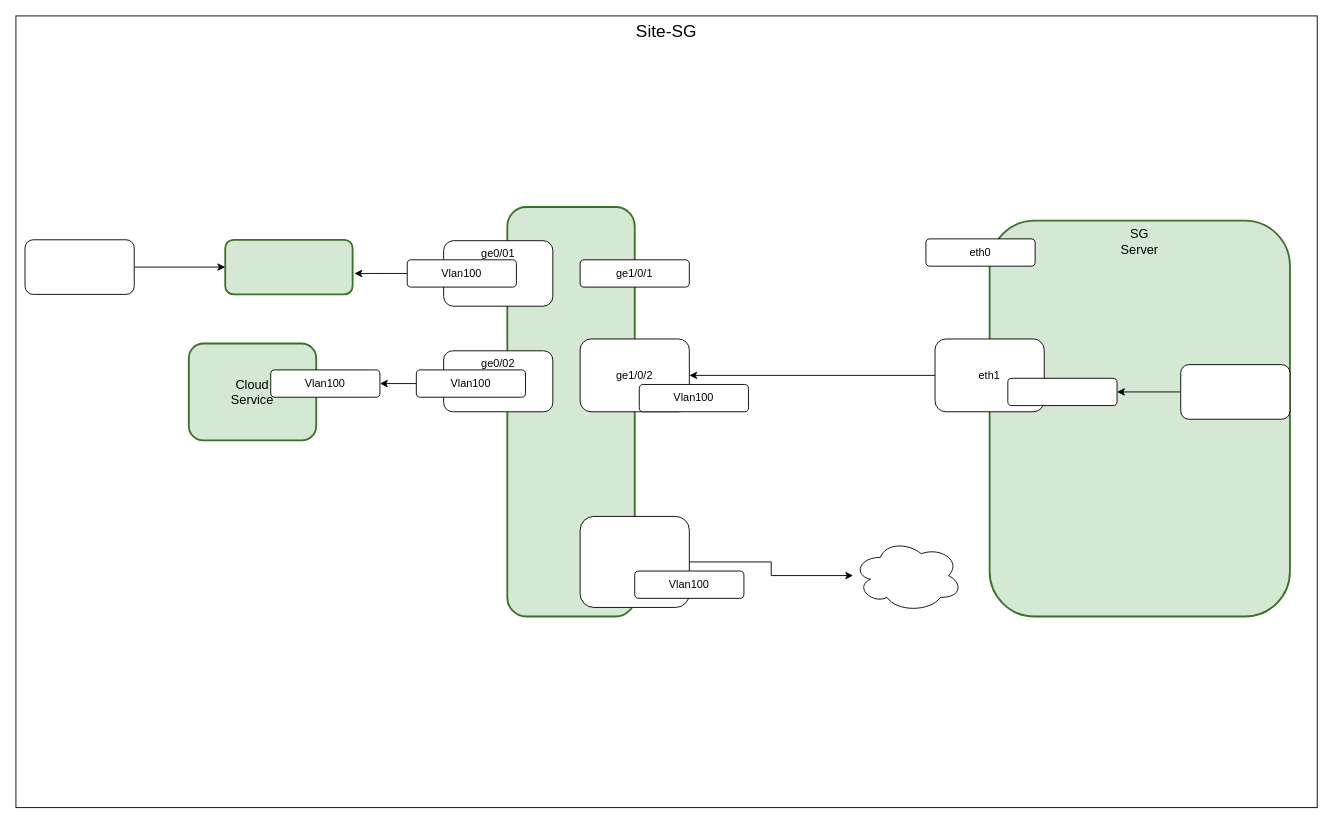
The diagram is 1333 pixels wide and 824 high, and some of its shapes have lost their labels. Each missing label, with the box of its shape:
DC Service Key: (224, 238, 353, 295)
ge1/0/3: (579, 516, 689, 607)
internet: (852, 538, 962, 612)
SG AE8000: (506, 206, 635, 617)
Tenant-A: (24, 239, 134, 294)
Tenant-A-VR: (1180, 364, 1290, 419)
Vlanif-10: (1007, 377, 1117, 406)
